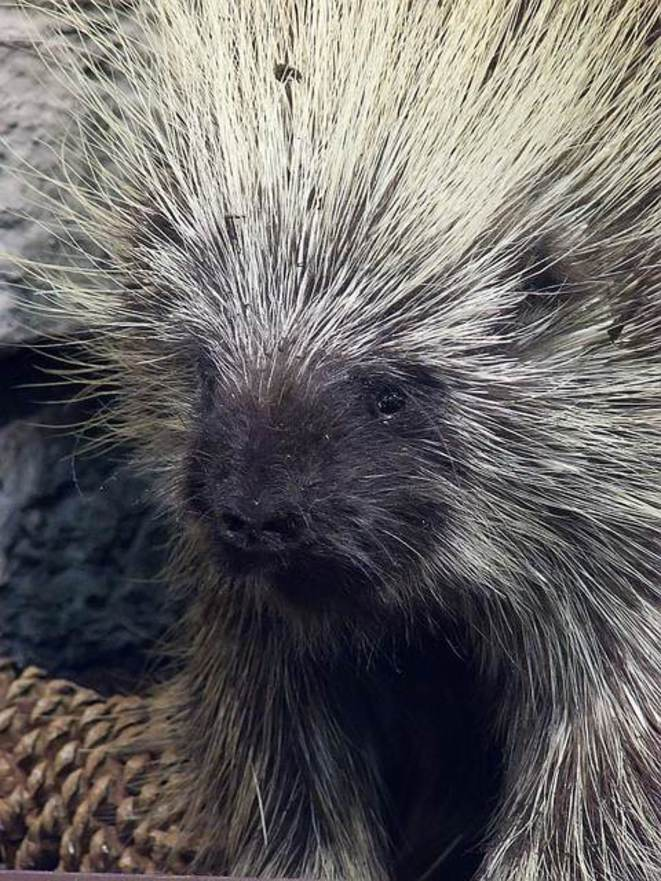porcupine: (76, 4, 661, 881)
